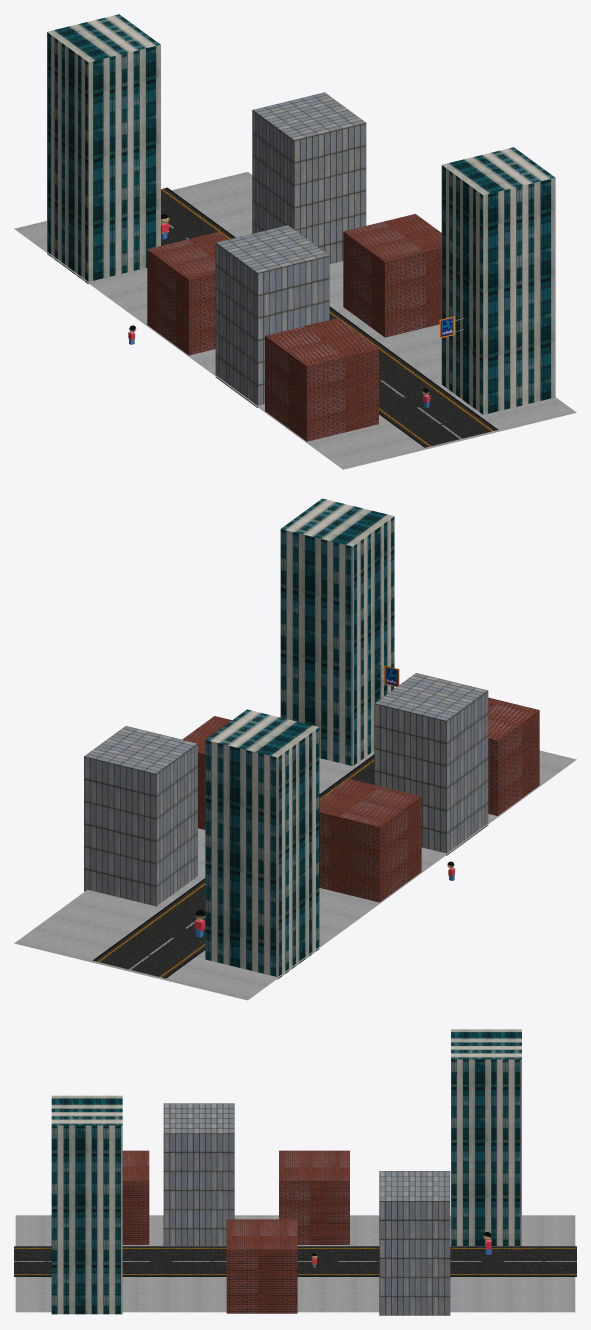
The model's file is mesto1_2.gltf.
The picture shows the model from 3 angles, top to bottom: view 1: azimuth 30°, elevation 25°; view 2: azimuth 150°, elevation 25°; view 3: azimuth 270°, elevation 25°; orthographic projection. The views are drawn at different scales.
Visible parts, largest first — view 1: bloki__levo.004, bloki_desno.004, cesta, bloki__levo.002, bloki_desno.002, bloki_desno.001, bloki__levo.003, bloki_desno.003; view 2: bloki_desno.004, bloki__levo.004, cesta, bloki__levo.002, bloki_desno.002, bloki_desno.003, bloki_desno.001, bloki__levo.003; view 3: cesta, bloki__levo.004, bloki_desno.004, bloki__levo.002, bloki_desno.002, bloki__levo.003, bloki_desno.003, bloki_desno.001.
Part boxes in pixels (x1,y1,x2,y2): bloki__levo.004: (441,147,555,414); bloki_desno.004: (47,14,160,284); cesta: (14,172,576,469); bloki__levo.002: (252,92,366,263); bloki_desno.002: (215,225,329,407); bloki_desno.001: (265,318,378,441); bloki__levo.003: (343,214,441,337); bloki_desno.003: (147,231,229,355); bloki_desno.004: (205,709,319,979); bloki__levo.004: (280,498,394,765); cesta: (14,750,576,1000); bloki__levo.002: (84,726,197,906); bloki_desno.002: (374,673,488,855); bloki_desno.003: (319,778,421,902); bloki_desno.001: (488,697,539,815); bloki__levo.003: (182,716,231,829); cesta: (14,1215,576,1312); bloki__levo.004: (51,1095,122,1314); bloki_desno.004: (451,1029,521,1245); bloki__levo.002: (379,1171,450,1315); bloki_desno.002: (163,1103,234,1245); bloki__levo.003: (226,1219,297,1313); bloki_desno.003: (279,1150,349,1244); bloki_desno.001: (122,1150,149,1244).
Size of the model in its own units: 11.23 by 8.41 by 22.73.
Materials: 24 (24 with a texture image).
